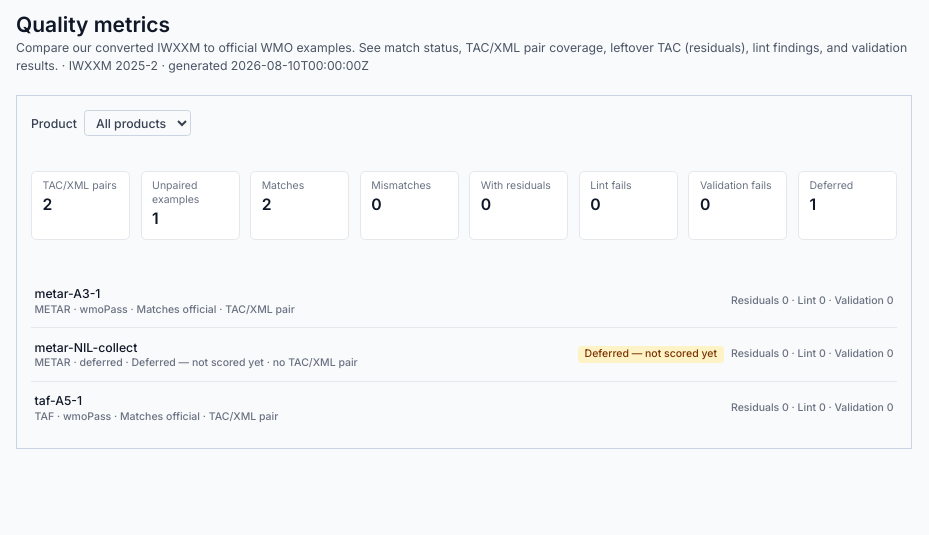
QualityMetricsPage detail (TC-EV054-003..004) › surfaces detail fetch errors
The image size is (929, 535).
What coordinates should you click on to do the following:
click the button with test id "quality-metrics-row-metar-A3-1"
I would click on:
 (67, 294)
Its box is [31,274,897,327].
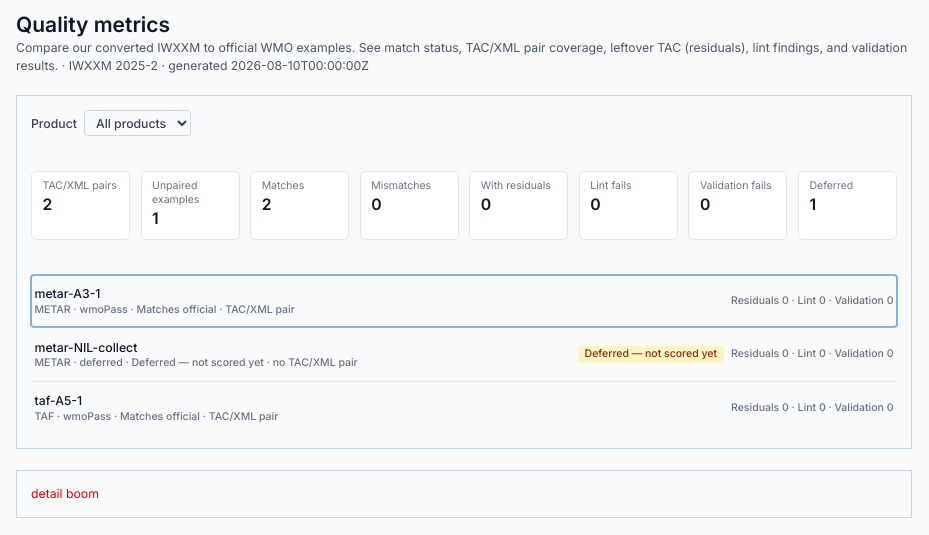
Now the text "detail boom" is shown, box [31,486,99,501]
